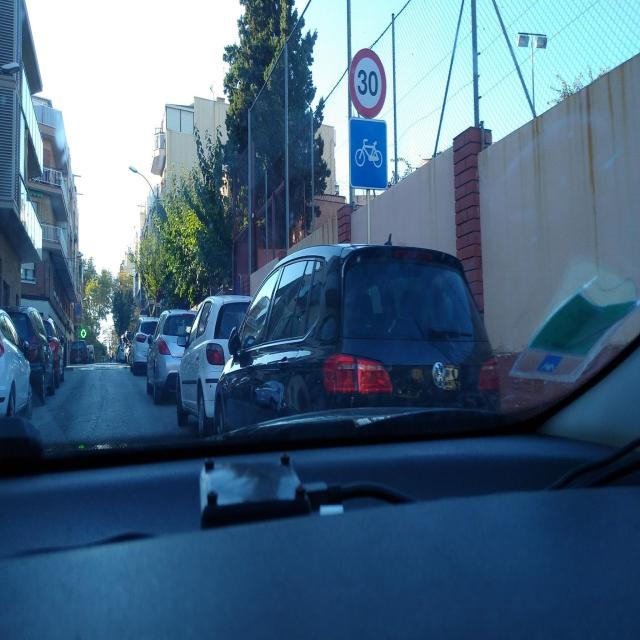forb_stopping: (75, 305, 81, 316)
